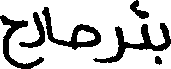ئ: (127, 0, 151, 50)
ا: (43, 4, 65, 50)
ب: (154, 20, 169, 65)
ح: (0, 13, 28, 67)
ر: (100, 23, 125, 62)
ص: (69, 21, 102, 49)
ل: (31, 5, 44, 49)
